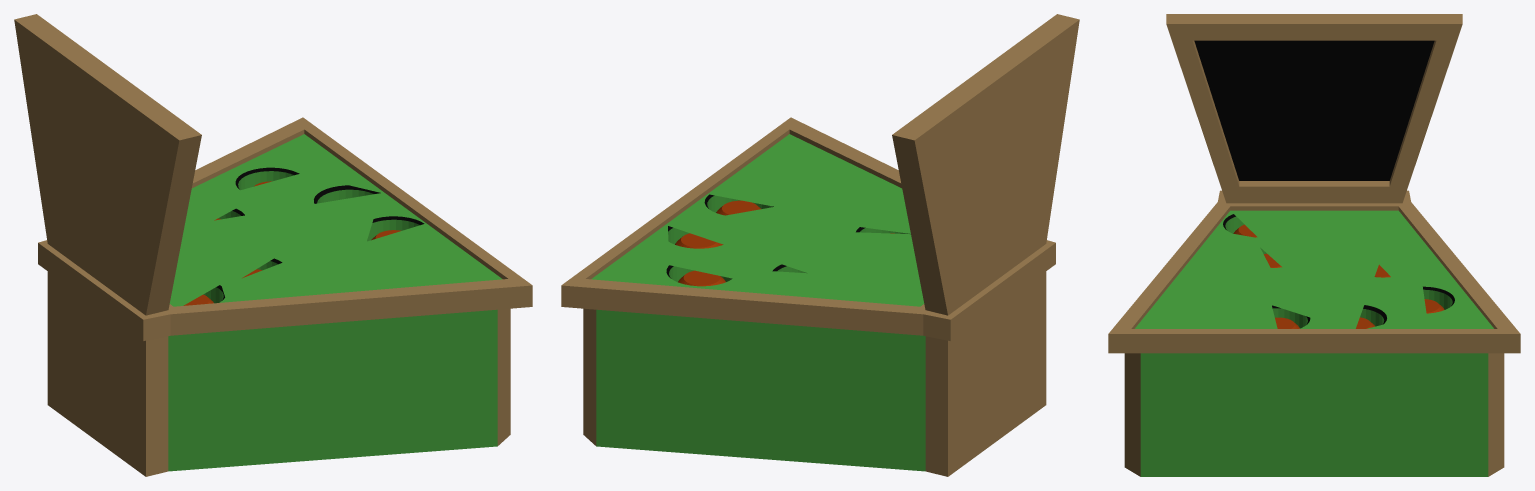
The model's file is whack a mole.fbx.
3 renders of one model, left to right at view 1: azimuth 30°, elevation 25°; view 2: azimuth 150°, elevation 25°; view 3: azimuth 270°, elevation 25°, orthographic. The views are drawn at different scales.
Parts seen in each view (by area): view 1: machine; view 2: machine, mole.009; view 3: machine.
Part boxes in pixels (<box>): machine: <box>14,14,532,476</box>; machine: <box>561,14,1079,476</box>; mole.009: <box>678,270,725,286</box>; machine: <box>1108,14,1520,476</box>.
Bounding box in the file's own units: 1453 × 1532 × 1767.
